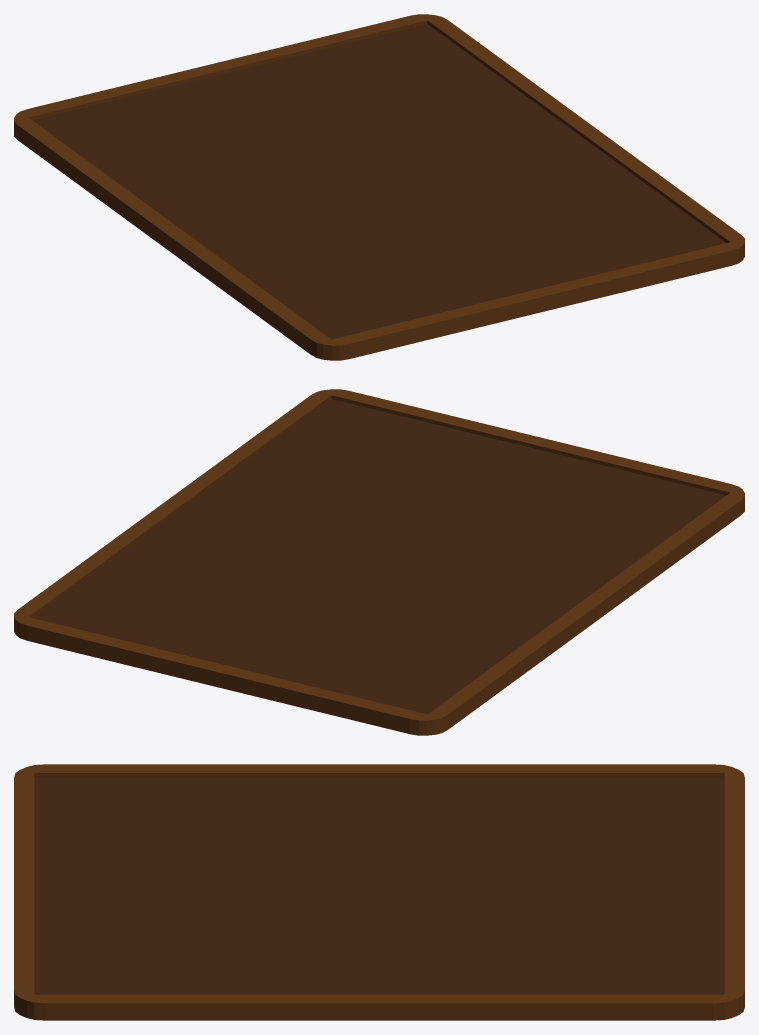
Rendered from Card2game.fbx.
The picture shows the model from 3 angles, top to bottom: view 1: azimuth 30°, elevation 25°; view 2: azimuth 150°, elevation 25°; view 3: azimuth 270°, elevation 25°; orthographic projection. The views are drawn at different scales.
Parts seen in each view (by area): view 1: Cube.011, Cube.003, Cube.004, Cube.002, Cube.001; view 2: Cube.011, Cube.001, Cube.004, Cube.002, Cube.003; view 3: Cube.011, Cube.002, Cube.004, Cube.001, Cube.003, Cube.006, Cube.007.
Boxes of the visible parts, x1=… form: Cube.011: x1=32, y1=24, x2=725, y2=339; Cube.003: x1=332, y1=242, x2=738, y2=360; Cube.004: x1=14, y1=117, x2=330, y2=357; Cube.002: x1=427, y1=17, x2=744, y2=242; Cube.001: x1=20, y1=14, x2=427, y2=120; Cube.011: x1=33, y1=399, x2=726, y2=714; Cube.001: x1=20, y1=617, x2=426, y2=735; Cube.004: x1=428, y1=492, x2=744, y2=732; Cube.002: x1=14, y1=392, x2=331, y2=617; Cube.003: x1=331, y1=389, x2=738, y2=495; Cube.011: x1=34, y1=777, x2=724, y2=994; Cube.002: x1=34, y1=994, x2=724, y2=1020; Cube.004: x1=34, y1=764, x2=724, y2=777; Cube.001: x1=724, y1=773, x2=744, y2=1011; Cube.003: x1=14, y1=773, x2=34, y2=1011; Cube.006: x1=15, y1=994, x2=34, y2=1019; Cube.007: x1=724, y1=994, x2=743, y2=1019.
Size of the model in its own units: 2 by 2.59 by 0.0676.
